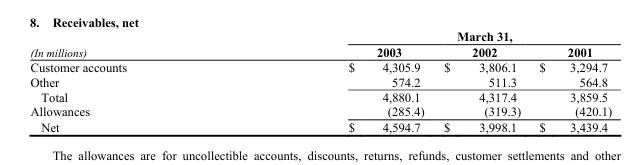table: (29, 29, 611, 133)
table column: (29, 29, 236, 133), (236, 29, 433, 133), (433, 29, 529, 133), (529, 29, 611, 133)
table column header: (29, 29, 611, 59)
table row: (29, 43, 611, 59), (29, 59, 611, 74), (29, 74, 611, 89), (29, 103, 611, 118), (29, 118, 611, 133), (29, 29, 611, 43), (29, 89, 611, 103)
table spanning cell: (29, 29, 236, 59), (236, 29, 611, 43)
